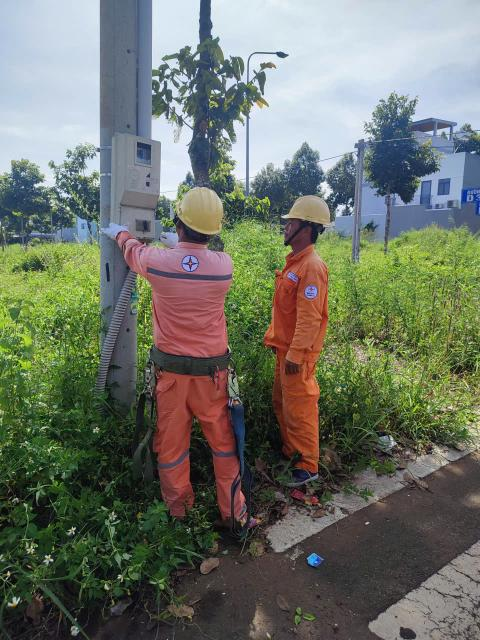gloves: (94, 216, 131, 240), (157, 227, 183, 249)
harness: (143, 334, 251, 380)
helmet: (171, 175, 232, 245), (279, 193, 345, 232)
shoes: (276, 461, 324, 486)
